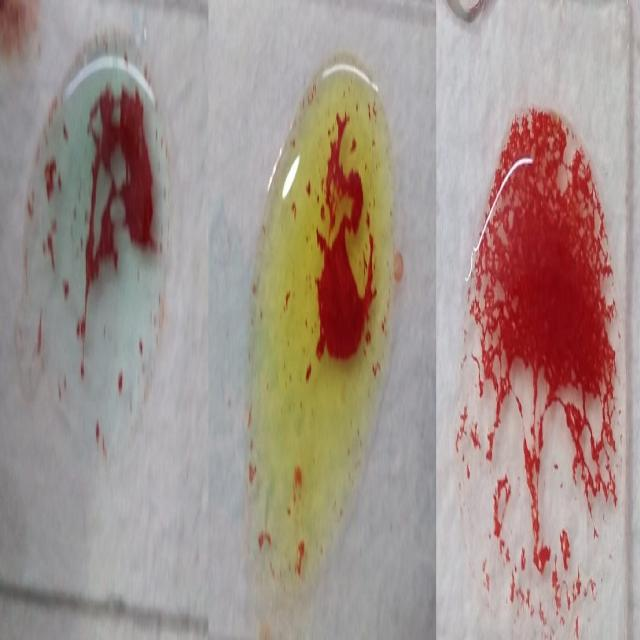A: (24, 35, 170, 457)
B: (246, 59, 397, 578)
D: (454, 101, 624, 640)
